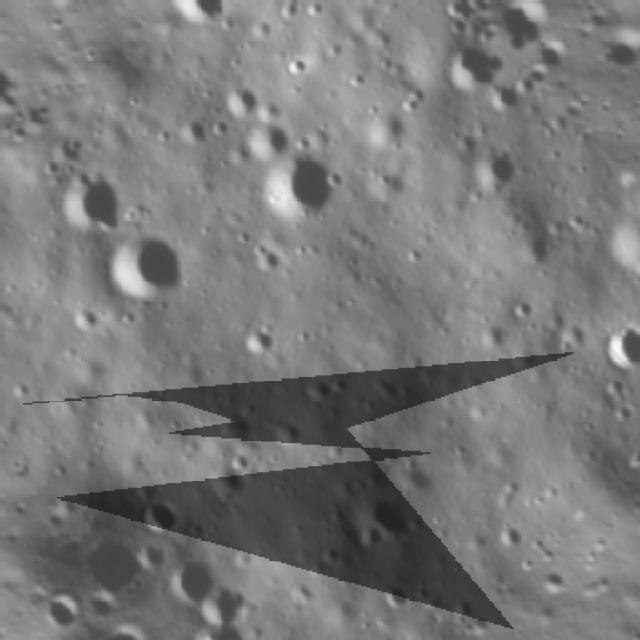crater: (97, 213, 200, 315), (261, 147, 347, 233), (84, 512, 164, 593), (344, 477, 424, 557), (159, 538, 238, 616), (55, 170, 133, 248), (192, 575, 258, 639), (132, 487, 193, 548), (291, 354, 351, 414), (239, 110, 298, 168), (464, 141, 522, 199), (591, 320, 640, 388), (228, 316, 284, 373), (598, 206, 640, 276), (209, 80, 263, 134), (272, 46, 317, 91), (376, 575, 419, 616), (195, 618, 262, 640), (614, 441, 640, 476), (348, 637, 382, 640)
